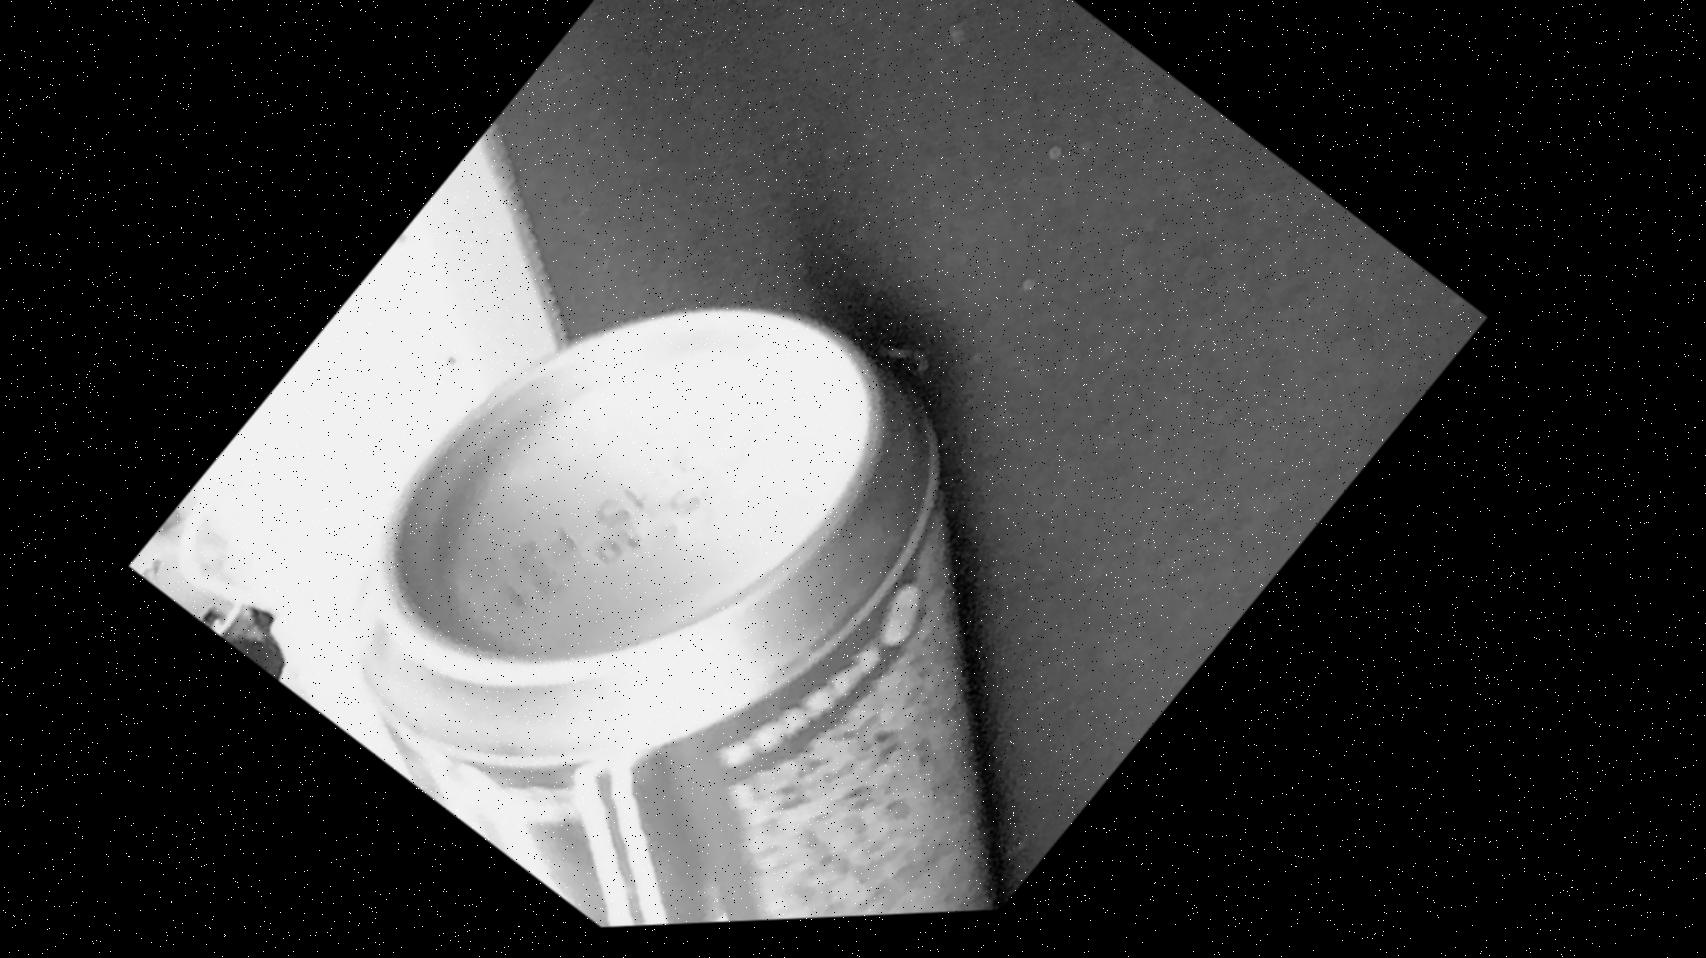letsbe: (244, 166, 1279, 947)
